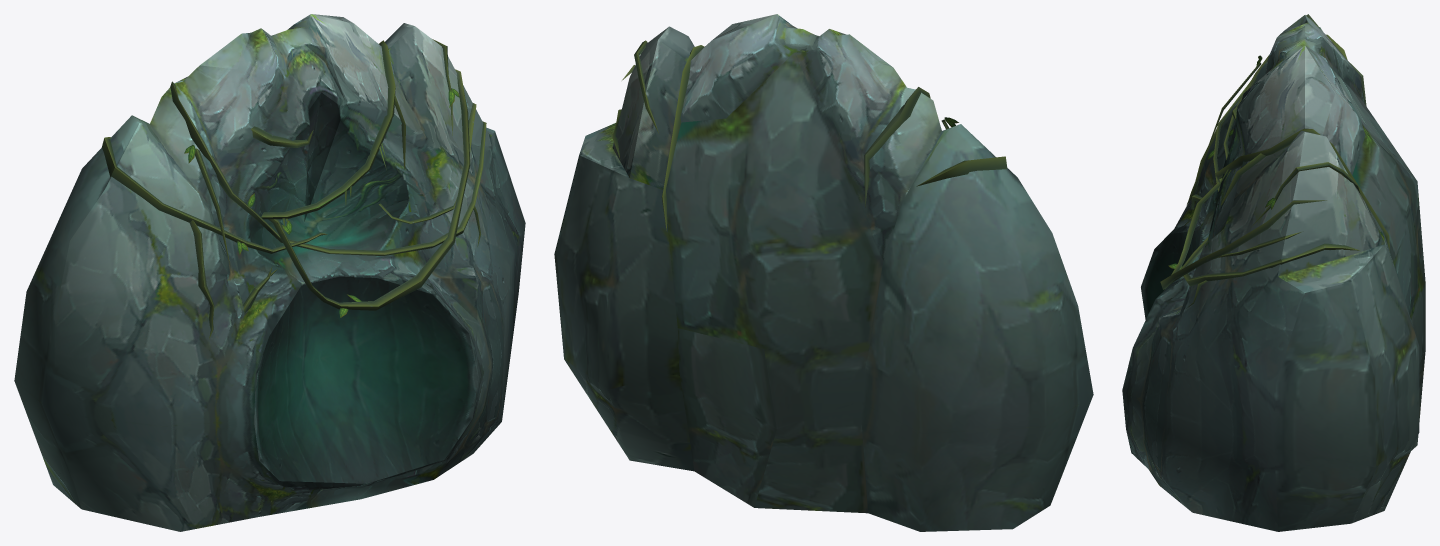
The model's file is fb_plxd_zj_04_a.FBX.
3 views of the same model, side by side, from view 1: azimuth 30°, elevation 25°; view 2: azimuth 150°, elevation 25°; view 3: azimuth 270°, elevation 25° (orthographic). The views are drawn at different scales.
Visible parts, largest first — view 1: fb_plxd_zj_04_a; view 2: fb_plxd_zj_04_a; view 3: fb_plxd_zj_04_a.
Part boxes in pixels (bbox=[...]): fb_plxd_zj_04_a: bbox=[14, 14, 525, 531]; fb_plxd_zj_04_a: bbox=[554, 14, 1093, 531]; fb_plxd_zj_04_a: bbox=[1122, 14, 1425, 531].
Bounding box in the file's own units: 1094 × 923 × 609.
